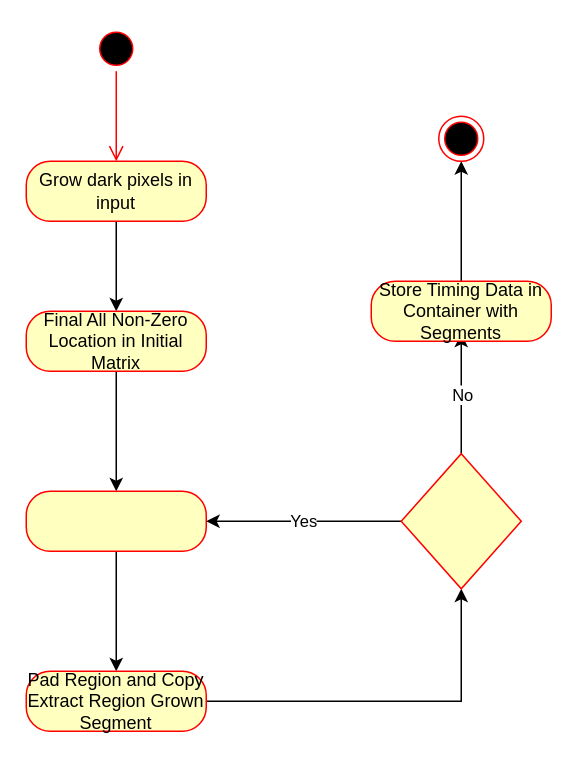
The diagram is 578 pixels wide and 759 high, and some of its shapes have lost their labels. Here are the shapes that lost their labels. From the top down, the centre of each, then its label:
pixel 115 520: Call Region Growing Code
pixel 460 520: More NonZero Locations to Process
